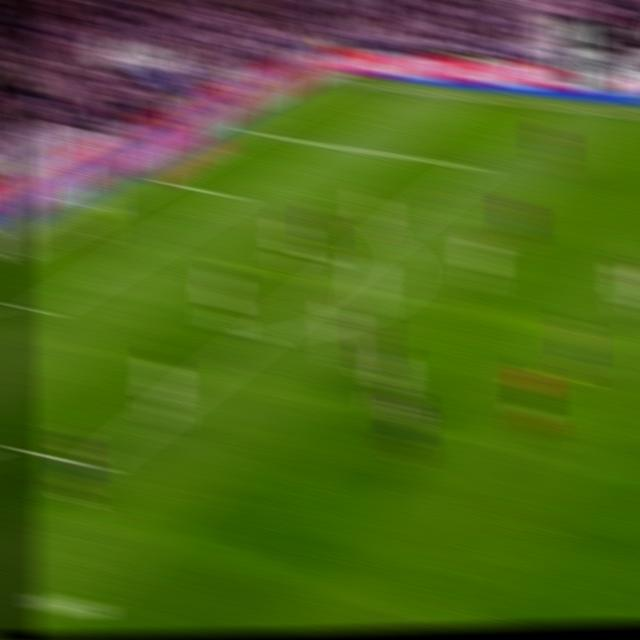bigarea_bottom_inner: (77, 449, 109, 482)
bigarea_top_inner: (461, 154, 488, 177)
bottom_arc_area_intersection: (244, 324, 272, 349)
corner: (328, 74, 353, 87)
smallarea_bottom_inner: (24, 298, 52, 322)
smallarea_top_inner: (220, 187, 244, 203)
top_arc_area_intersection: (375, 223, 402, 244)
